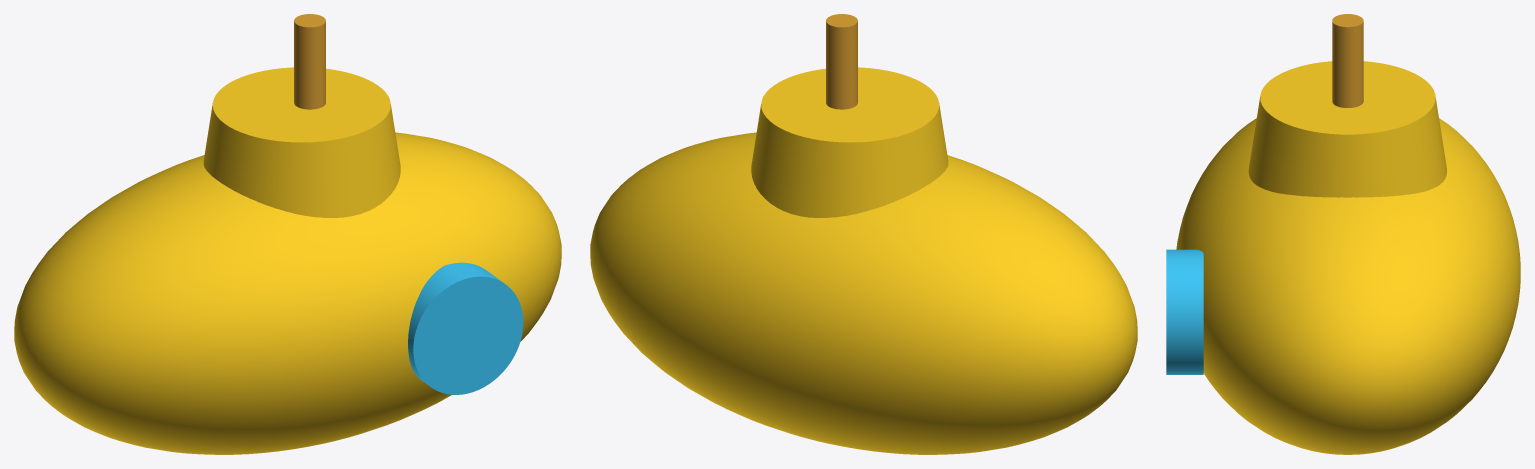
The model's file is deepsea_sub.glb.
3 renders of one model, left to right at view 1: azimuth 30°, elevation 25°; view 2: azimuth 150°, elevation 25°; view 3: azimuth 270°, elevation 25°, orthographic.
Parts seen in each view (by area): view 1: SubHull, ConningTower, PortholeFront, Periscope; view 2: SubHull, ConningTower, Periscope; view 3: SubHull, ConningTower, PortholeFront, Periscope.
Part boxes in pixels (bbox=[...]): SubHull: bbox=[14, 132, 561, 454]; ConningTower: bbox=[203, 67, 400, 217]; PortholeFront: bbox=[408, 262, 523, 394]; Periscope: bbox=[294, 14, 325, 109]; SubHull: bbox=[590, 132, 1137, 454]; ConningTower: bbox=[751, 67, 948, 217]; Periscope: bbox=[826, 14, 857, 109]; SubHull: bbox=[1176, 118, 1520, 454]; ConningTower: bbox=[1248, 61, 1446, 197]; PortholeFront: bbox=[1166, 249, 1203, 374]; Periscope: bbox=[1332, 14, 1363, 107].
Size of the model in its own units: 1.88 by 1.39 by 1.13.
